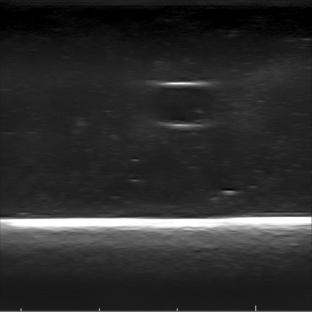vessel: (145, 82, 220, 130)
